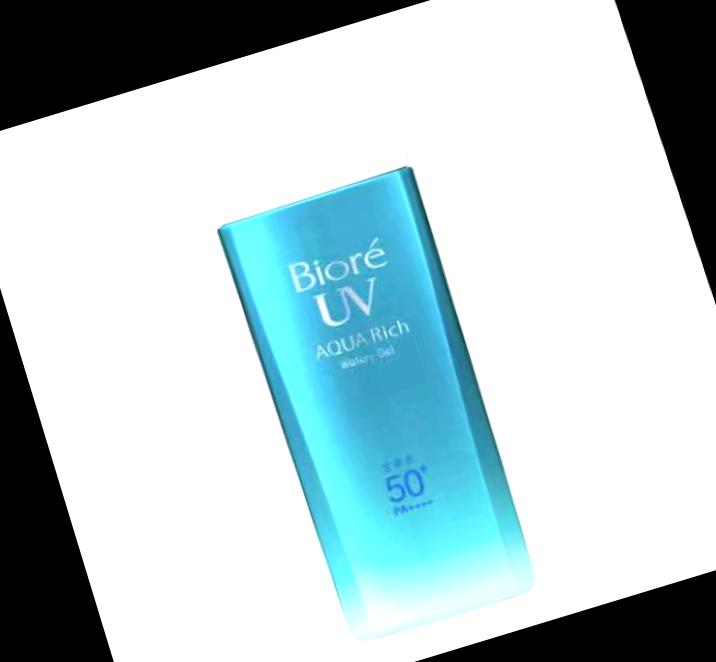cosmetic: (165, 35, 551, 654)
